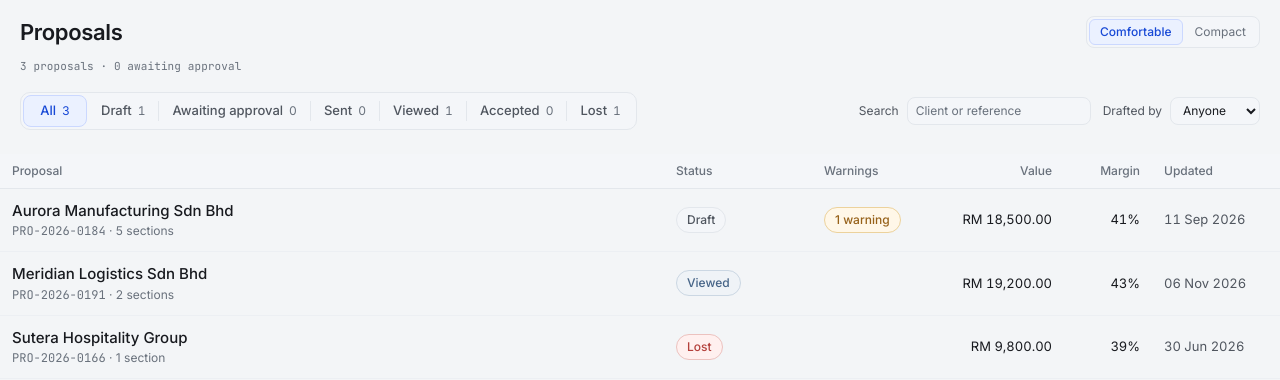
Test: M07 · proposal list › empties honestly when the search matches nothing
Expected: the text "Aurora Manufacturing Sdn Bhd" is shown, x1=12 y1=200 x2=234 y2=220
In the search field labelled "Search": (999, 110) x1=907 y1=96 x2=1091 y2=124, type "no client by this name"
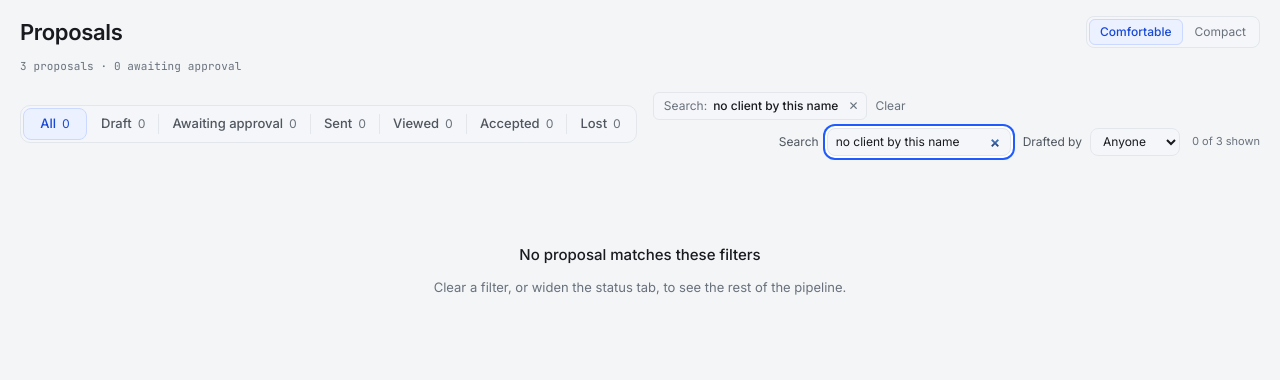
Now the text "No proposal matches these filters" is shown, box x1=519 y1=244 x2=761 y2=266
